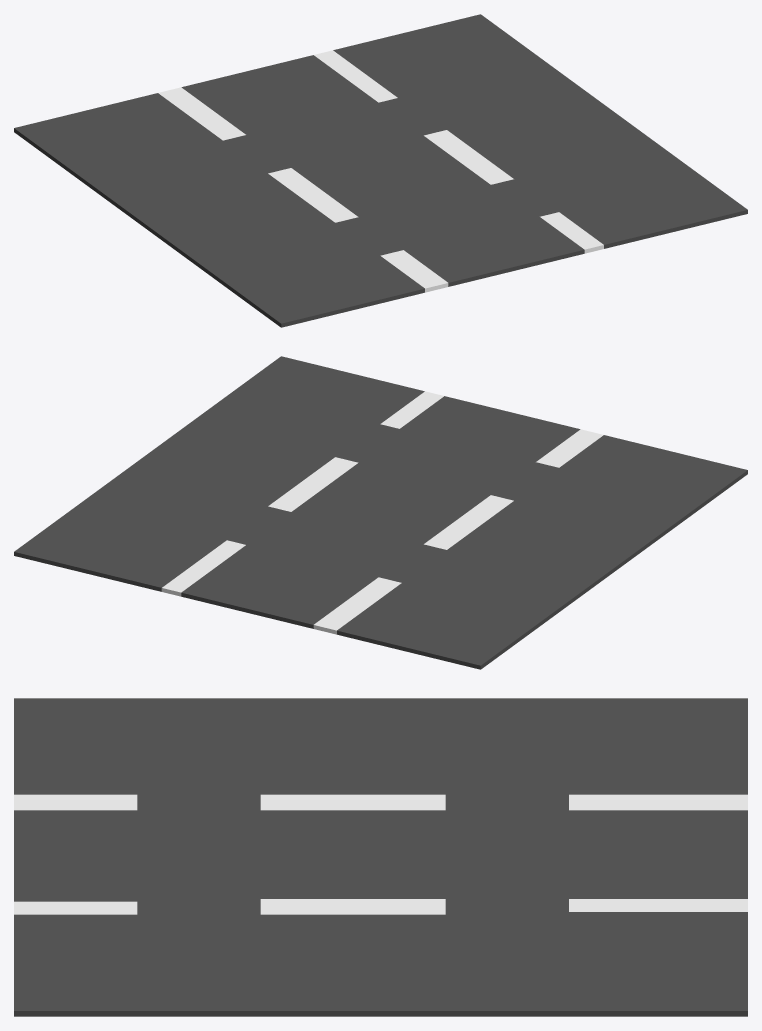
File: carretera.obj
3 views of the same model, one above another, from view 1: azimuth 30°, elevation 25°; view 2: azimuth 150°, elevation 25°; view 3: azimuth 270°, elevation 25° (orthographic). The views are drawn at different scales.
Bounding box in the file's own units: 120 × 1 × 119.
Materials: 1 (1 with a texture image).
